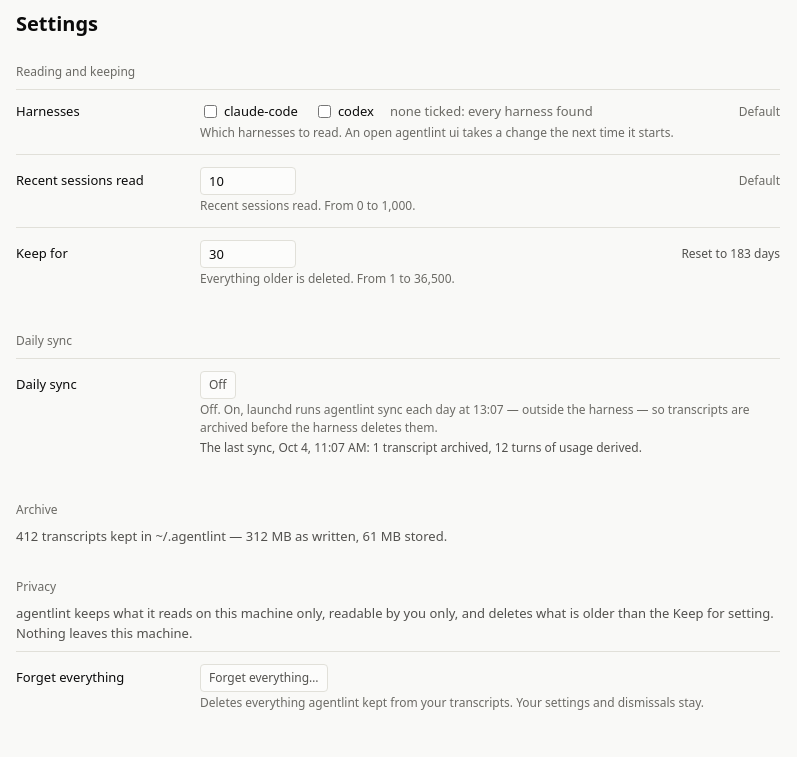
Test case: Settings › resets a setting, ticks harnesses, and switches the daily sync
Click the button "Reset to 183 days": click(731, 254) [681, 244, 780, 262]
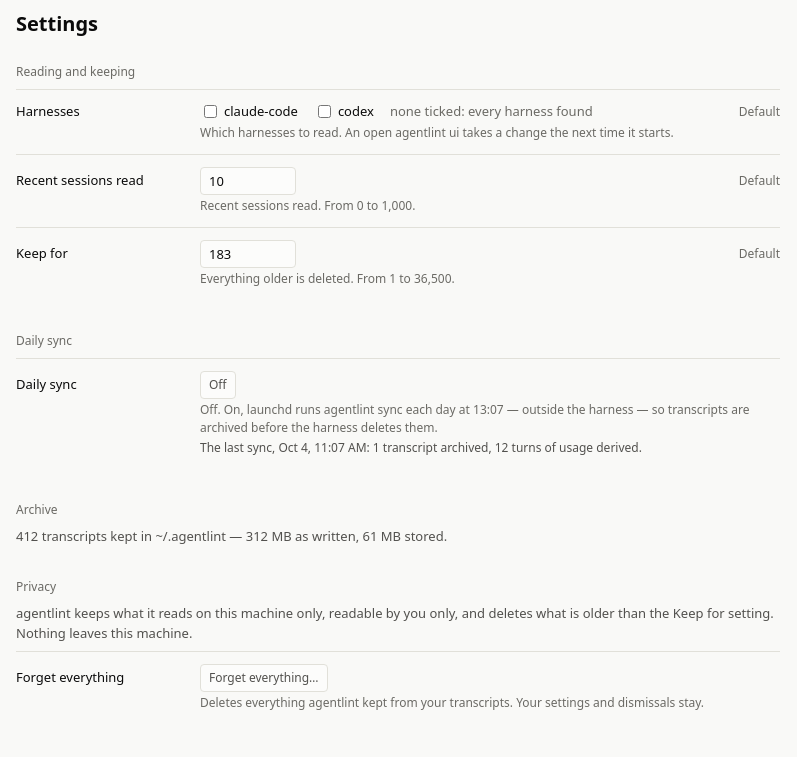
Click the checkbox labelled "codex": click(324, 112) [318, 105, 331, 118]
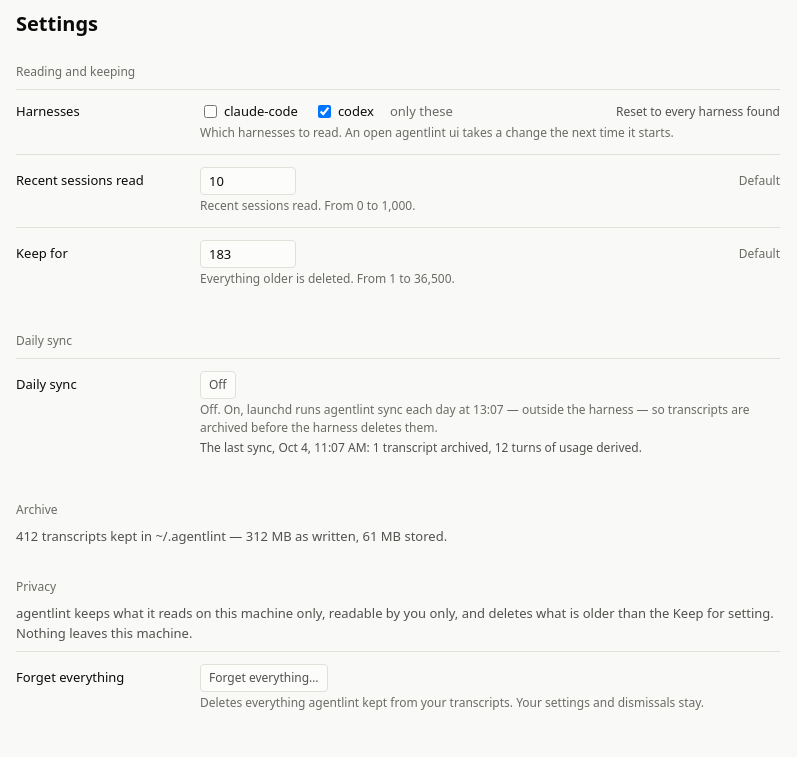
Click the switch named "Daily sync": click(218, 384) [200, 370, 236, 398]
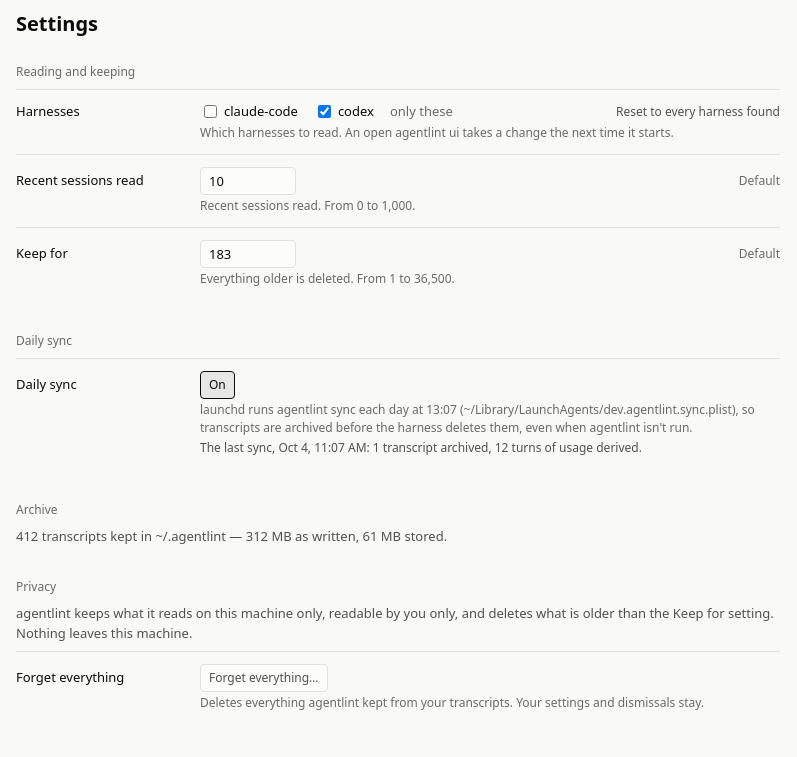
Expected: the text "launchd runs agentlint sync each day at 13:07 (~/Library/LaunchAgents/dev.agentlint.sync.plist)" is shown, [200, 400, 755, 436]
